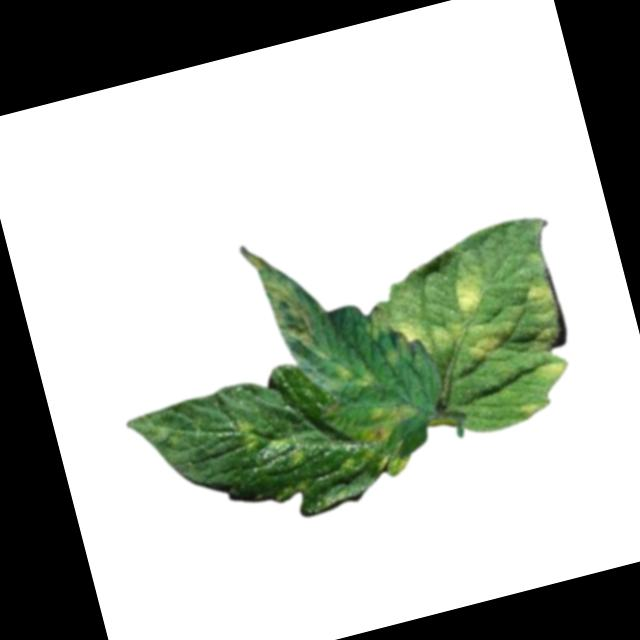Leaf_Mold: (354, 394, 423, 446), (395, 310, 457, 364), (448, 261, 498, 325), (460, 316, 517, 364), (370, 441, 415, 482), (518, 273, 558, 314), (337, 356, 380, 393), (531, 353, 570, 387), (234, 415, 263, 454)
